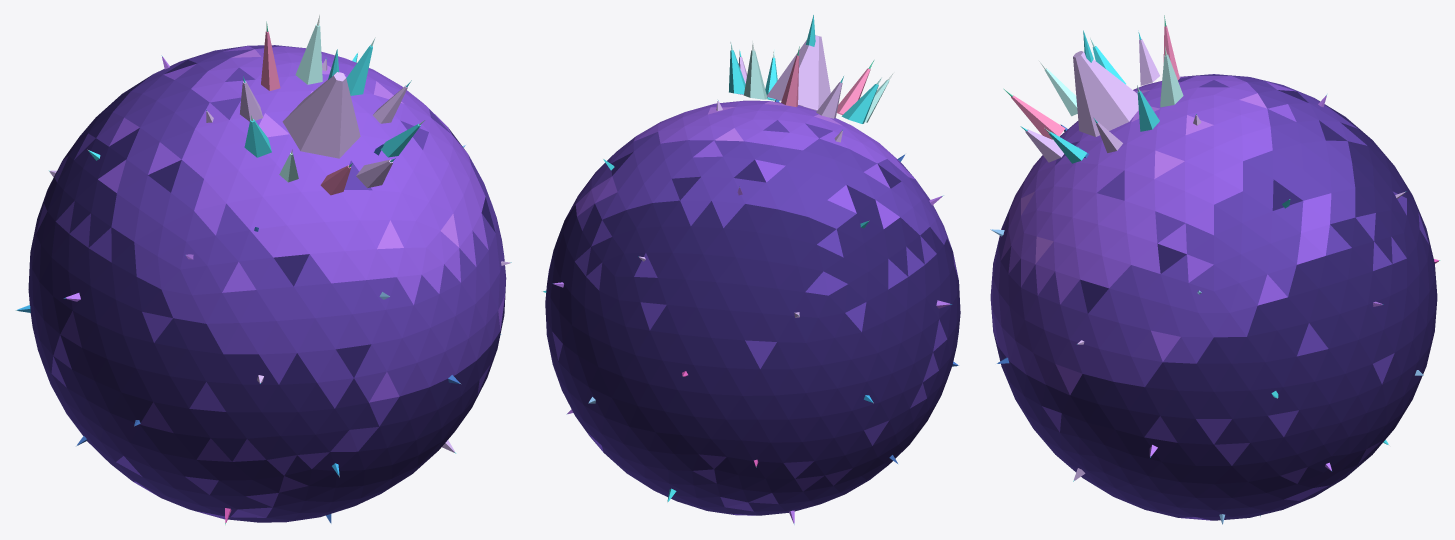
Rendered from Crystal_01.fbx.
The picture shows the model from 3 angles, left to right: view 1: azimuth 30°, elevation 25°; view 2: azimuth 150°, elevation 25°; view 3: azimuth 270°, elevation 25°; orthographic projection. The views are drawn at different scales.
Visible parts, largest first — view 1: Crystal_01; view 2: Crystal_01; view 3: Crystal_01.
Boxes of the visible parts, x1,y1,x2,y2 form: Crystal_01: (15, 15, 511, 524); Crystal_01: (541, 15, 960, 524); Crystal_01: (990, 15, 1440, 524).
Size of the model in its own units: 6.17 by 7.08 by 6.06.
1 material, 1 textured.
